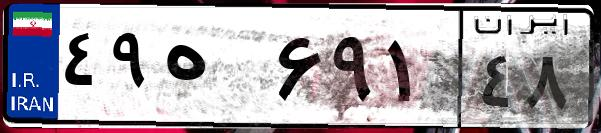1: (385, 28, 445, 110)
4: (57, 26, 110, 100), (475, 38, 525, 113)
6: (270, 28, 330, 110)
8: (525, 38, 570, 115)
9: (330, 28, 385, 110), (110, 28, 158, 98)
ه: (158, 20, 270, 120)
